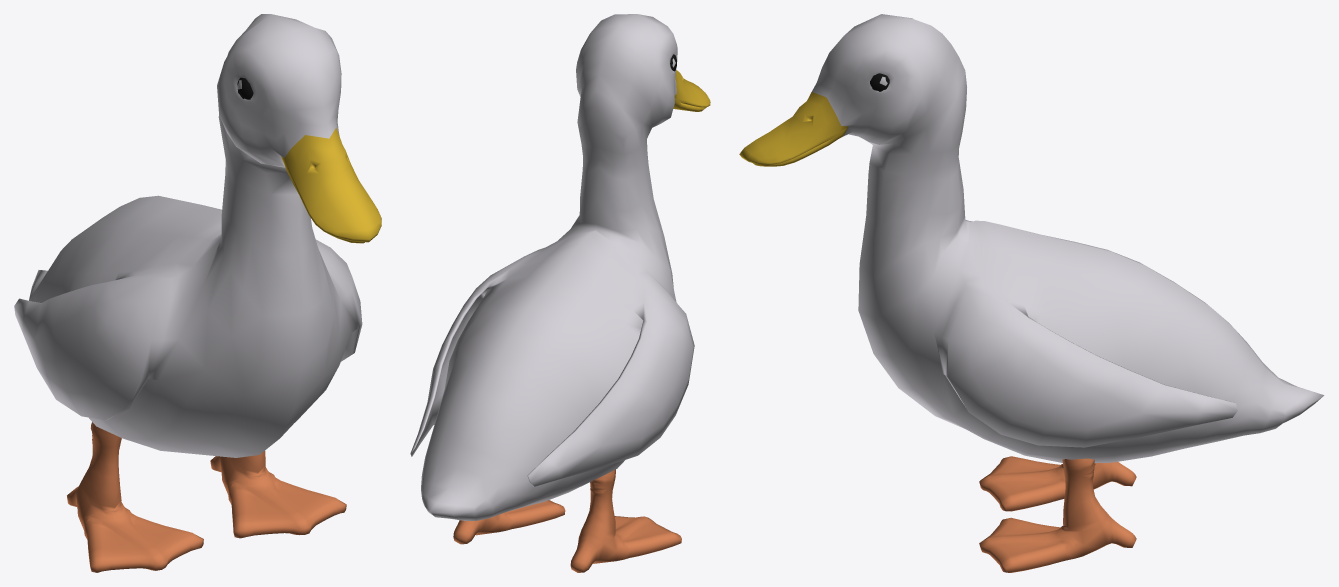
The picture shows the model from 3 angles, left to right: view 1: azimuth 30°, elevation 25°; view 2: azimuth 150°, elevation 25°; view 3: azimuth 270°, elevation 25°; orthographic projection. The views are drawn at different scales.
Visible parts, largest first — view 1: duck; view 2: duck; view 3: duck.
Part boxes in pixels (left/top/right/bottom): duck: left=14, top=14, right=381, bottom=572; duck: left=410, top=14, right=710, bottom=572; duck: left=739, top=14, right=1324, bottom=572.
Size of the model in its own units: 0.2447 by 0.4998 by 0.5265.
